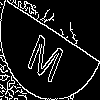M: (25, 25, 69, 85)
